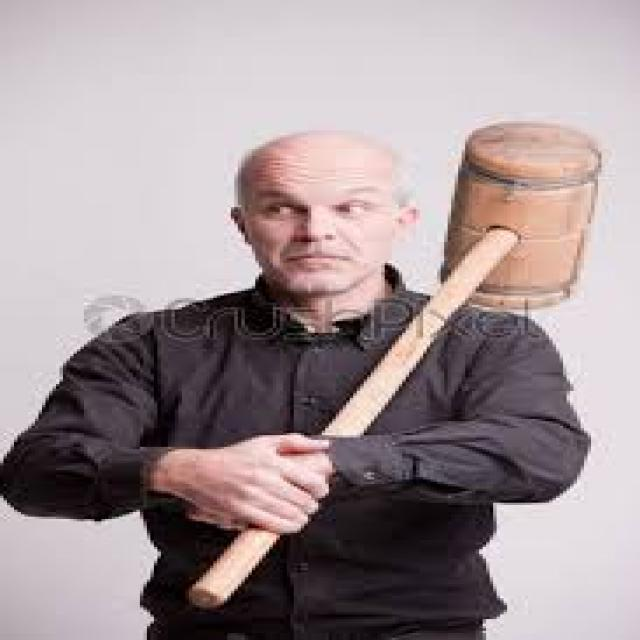hammer: (178, 111, 612, 616)
